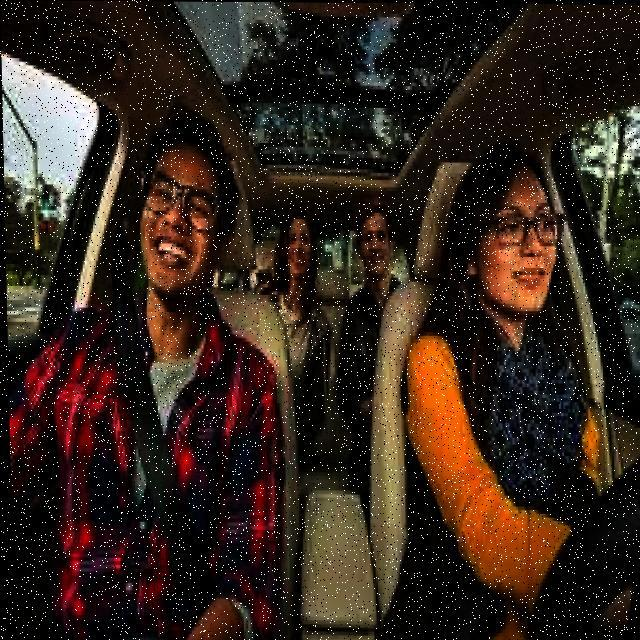noSeatbelt: (395, 299, 574, 640)
seatbelt: (81, 282, 241, 640)
